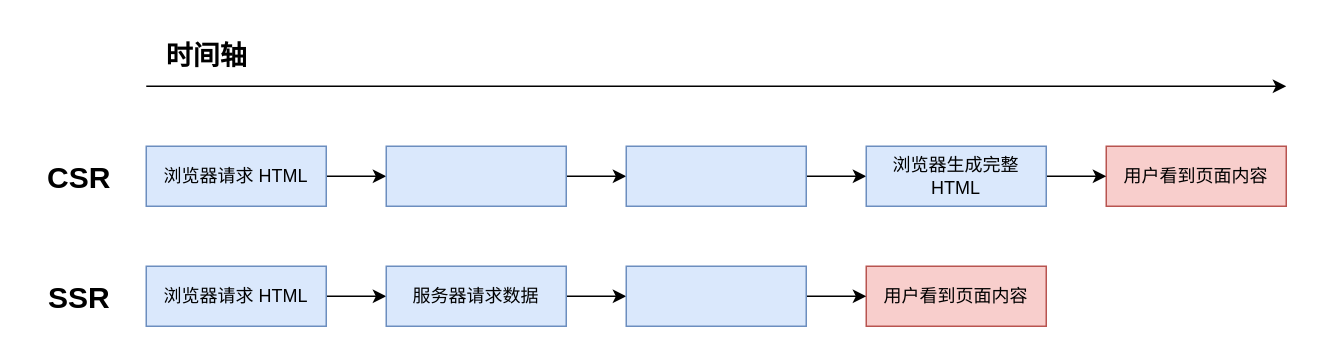
The diagram is 1325 pixels wide and 353 high, and some of its shapes have lost their labels. Here are the shapes that lost their labels. From the top down, the centre of each, then its label:
At (475,175): "浏览器请求 JS".
At (715,175): "浏览器请求数据".
At (715,295): "服务器生成完整 HTML".
